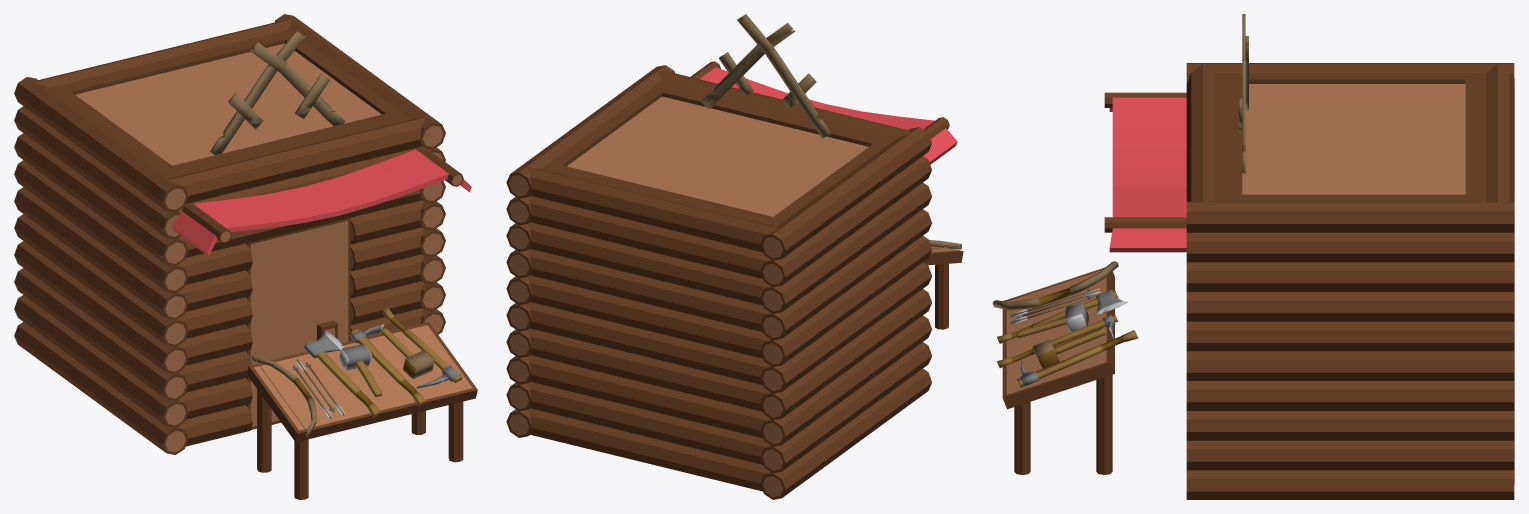
File: Weapon_Workshop.fbx
3 renders of one model, left to right at view 1: azimuth 30°, elevation 25°; view 2: azimuth 150°, elevation 25°; view 3: azimuth 270°, elevation 25°, orthographic. The views are drawn at different scales.
Visible parts, largest first — view 1: Weapon_Workshop; view 2: Weapon_Workshop; view 3: Weapon_Workshop.
Part boxes in pixels (bbox=[...]): Weapon_Workshop: bbox=[14, 14, 477, 499]; Weapon_Workshop: bbox=[506, 14, 963, 499]; Weapon_Workshop: bbox=[992, 14, 1514, 499].
Bounding box in the file's own units: 220 × 273 × 318.
